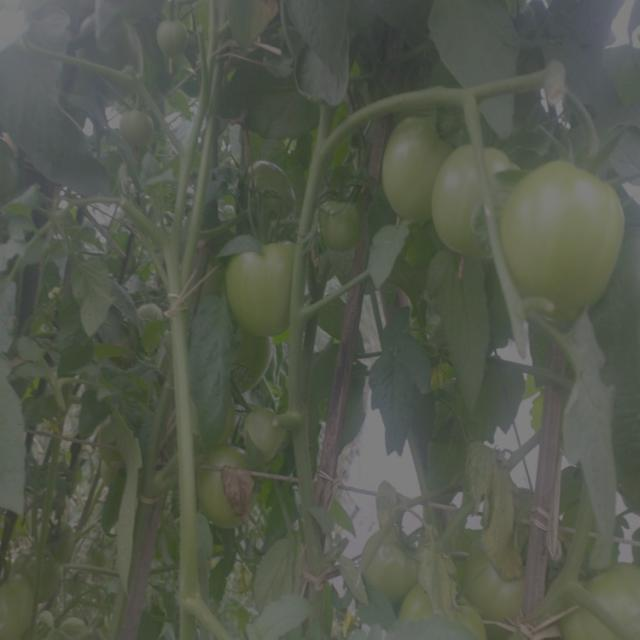tomato: (505, 135, 620, 322), (432, 141, 513, 262), (216, 239, 304, 342), (380, 111, 450, 226), (472, 531, 539, 617), (575, 555, 640, 640), (403, 576, 480, 640), (358, 528, 421, 594), (203, 447, 258, 518), (248, 156, 303, 221), (321, 201, 371, 255), (1, 579, 45, 640), (117, 105, 161, 163), (249, 407, 297, 458), (157, 11, 192, 59), (138, 302, 175, 335)
